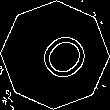O_SW: (21, 22, 89, 88)
